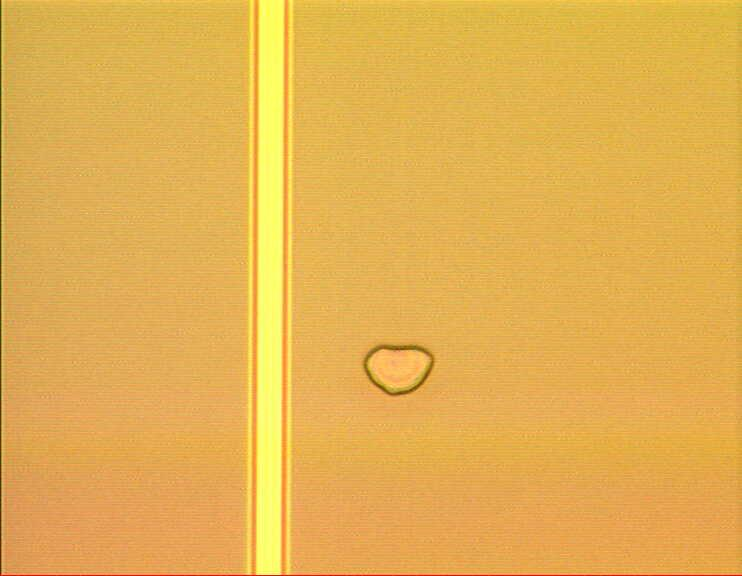PIQ PARTICLE: (364, 345, 436, 397)
